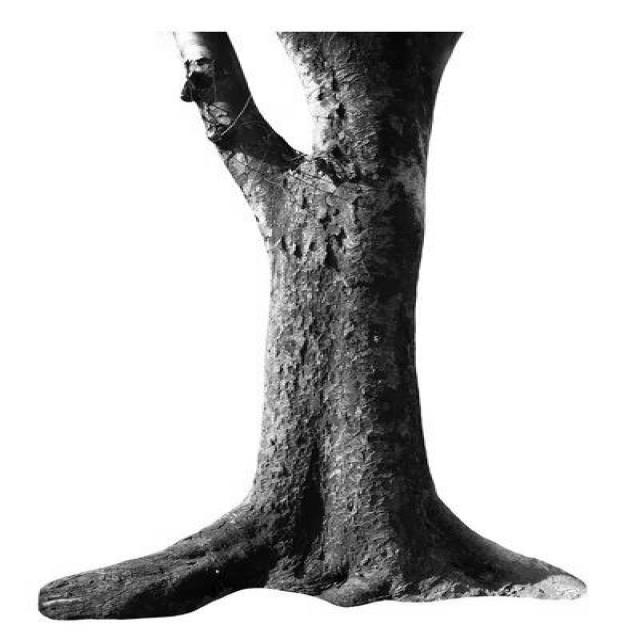Tree: (40, 32, 587, 621)
